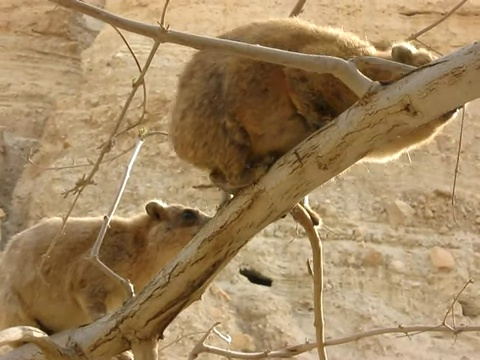Rock Hyrex: (169, 17, 464, 192), (7, 202, 214, 338)
